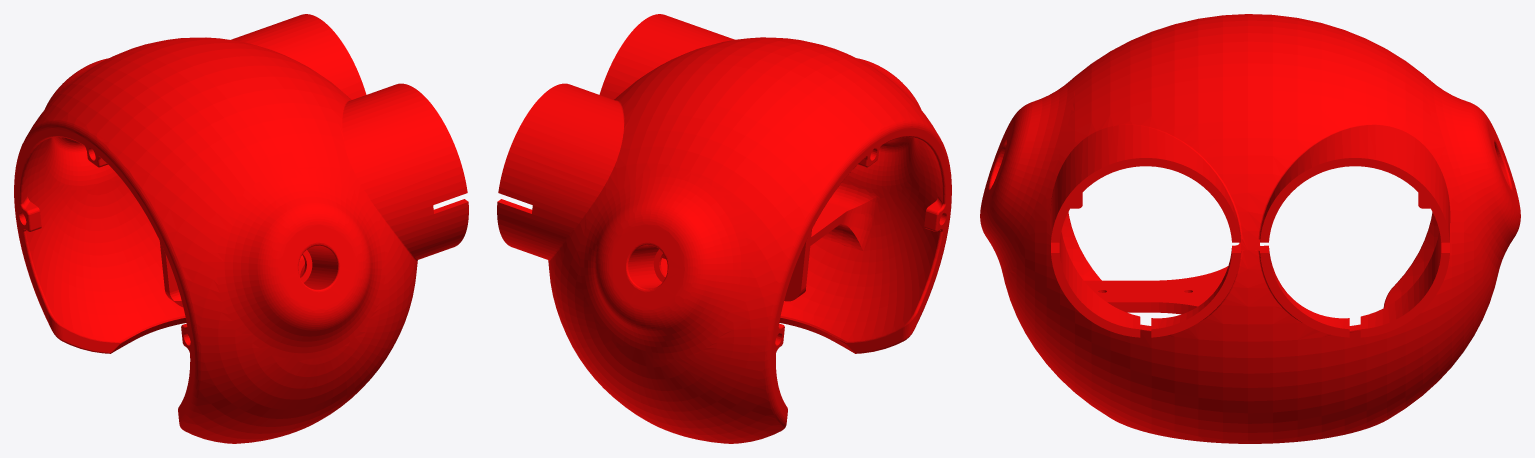
Rendered from head_1_head_1.glb.
3 renders of one model, left to right at view 1: azimuth 30°, elevation 25°; view 2: azimuth 150°, elevation 25°; view 3: azimuth 270°, elevation 25°, orthographic. The views are drawn at different scales.
Visible parts, largest first — view 1: head_1_head_1.obj; view 2: head_1_head_1.obj; view 3: head_1_head_1.obj.
Boxes of the visible parts, x1=… form: head_1_head_1.obj: x1=14, y1=14, x2=468, y2=443; head_1_head_1.obj: x1=497, y1=14, x2=951, y2=443; head_1_head_1.obj: x1=980, y1=14, x2=1520, y2=443.
Size of the model in its own units: 0.1695 by 0.1813 by 0.245.
